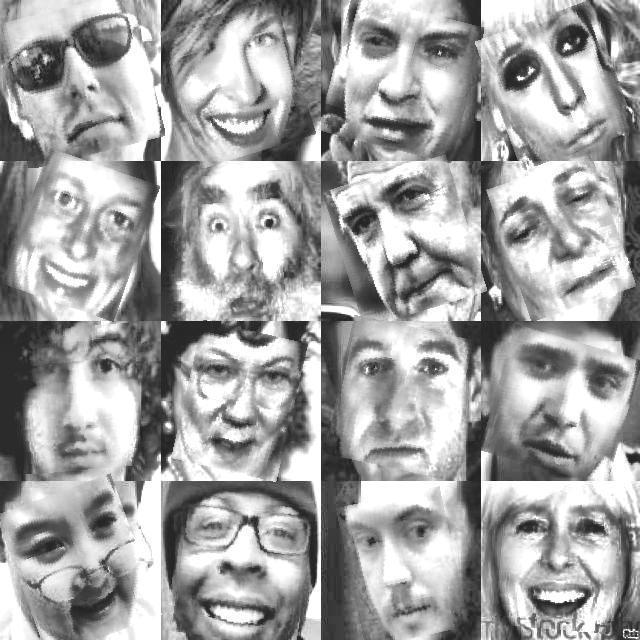angry: (179, 325, 301, 477)
fear: (343, 490, 462, 640), (186, 171, 300, 319)
happy: (7, 481, 150, 640), (12, 155, 150, 315), (169, 4, 307, 161), (170, 490, 311, 640), (495, 490, 619, 632)
neutral: (0, 0, 157, 161), (331, 162, 478, 321), (485, 8, 627, 162), (332, 321, 466, 473), (16, 325, 142, 472)
sad: (326, 2, 477, 156), (487, 332, 635, 479), (496, 161, 627, 315)
